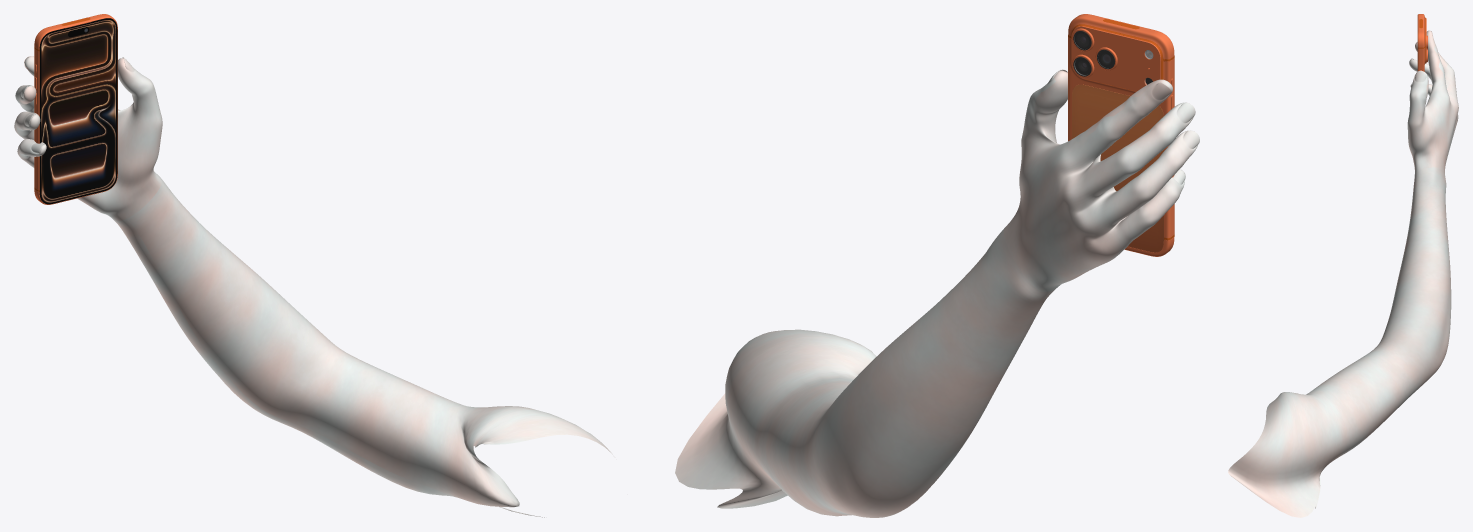
The picture shows the model from 3 angles, left to right: view 1: azimuth 30°, elevation 25°; view 2: azimuth 150°, elevation 25°; view 3: azimuth 270°, elevation 25°; orthographic projection. The views are drawn at different scales.
Parts seen in each view (by area): view 1: Body.001, HkNSnYzBPABcqwM.003, iiaJouajajQCUNT.016, AGRAGZgDdQiqAwv.003; view 2: Body.001, iiaJouajajQCUNT.016, gCMlCSdRJrizepS.003; view 3: Body.001, iiaJouajajQCUNT.016.
Boxes of the visible parts, bbox=[...] form: Body.001: bbox=[14, 56, 612, 517]; HkNSnYzBPABcqwM.003: bbox=[41, 20, 115, 202]; iiaJouajajQCUNT.016: bbox=[34, 14, 117, 204]; AGRAGZgDdQiqAwv.003: bbox=[39, 18, 117, 204]; Body.001: bbox=[675, 69, 1199, 517]; iiaJouajajQCUNT.016: bbox=[1068, 14, 1174, 256]; gCMlCSdRJrizepS.003: bbox=[1072, 84, 1163, 252]; Body.001: bbox=[1228, 30, 1458, 517]; iiaJouajajQCUNT.016: bbox=[1417, 14, 1426, 71].
Bounding box in the file's own units: 0.4883 × 0.4974 × 0.2919.
29 materials, 10 textured.
